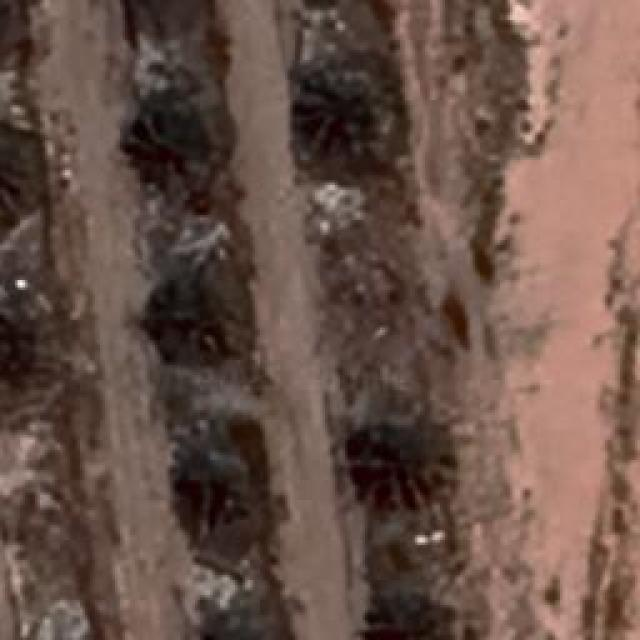PalmTree: (291, 64, 401, 168), (344, 408, 456, 508), (124, 87, 236, 185), (142, 270, 260, 358), (352, 582, 470, 640), (172, 435, 252, 503), (0, 121, 45, 229), (190, 596, 286, 640), (0, 297, 36, 414), (0, 0, 36, 75)
